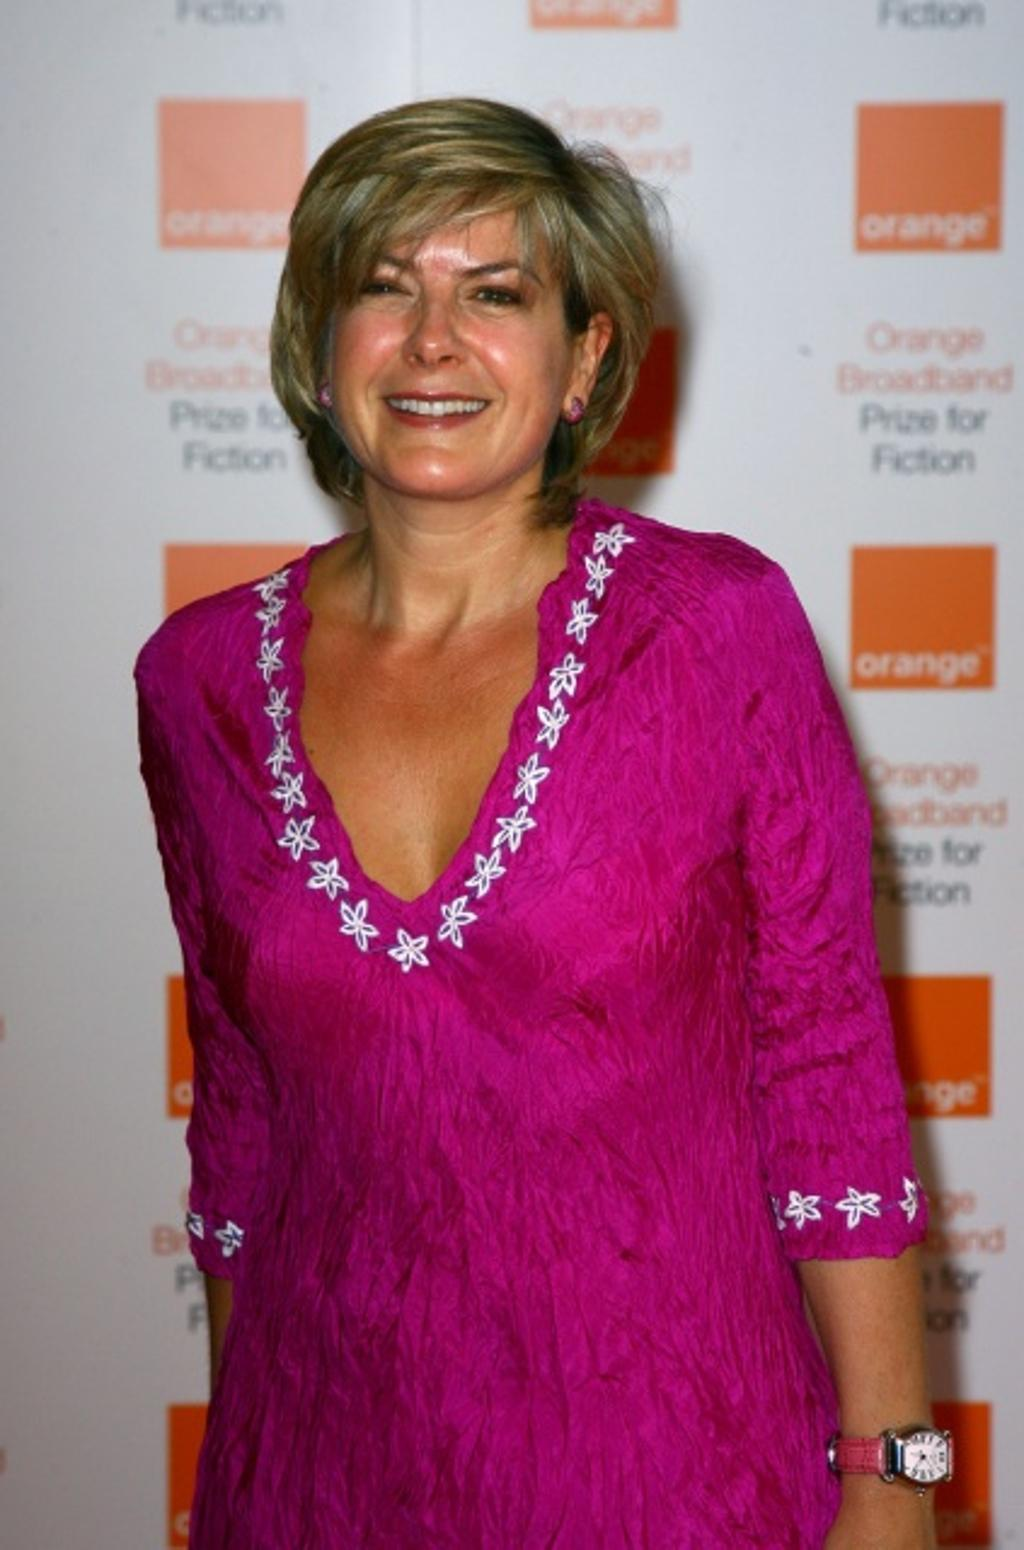face: (315, 161, 569, 494)
